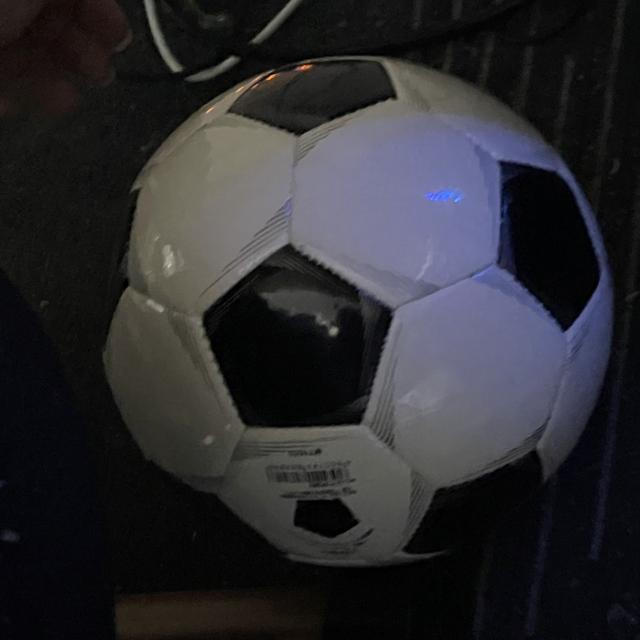ball: (97, 56, 616, 568)
